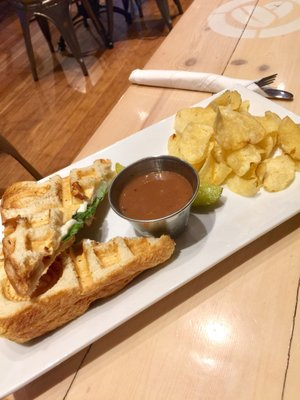soup: (0, 157, 157, 344)
sushi: (109, 154, 199, 238)
